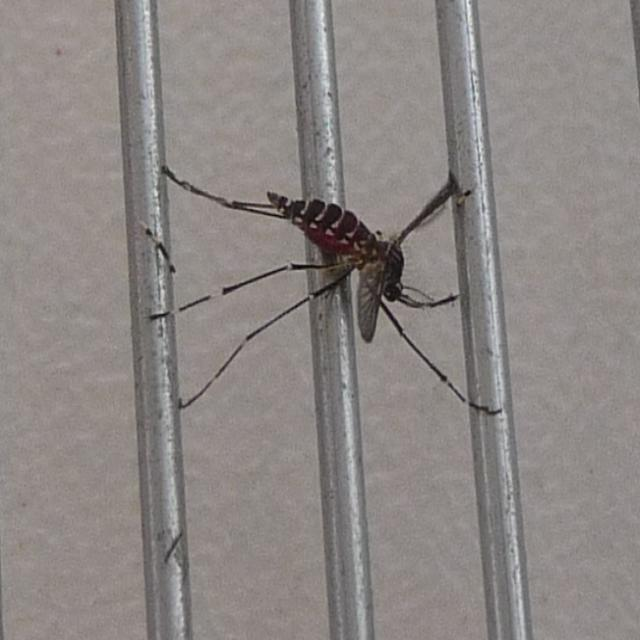albopictus: (107, 73, 508, 565)
